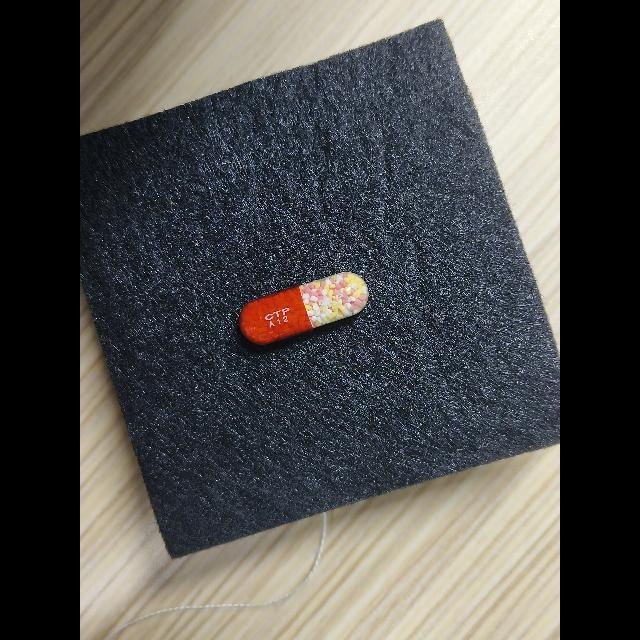Intact Capsule: (239, 272, 369, 345)
